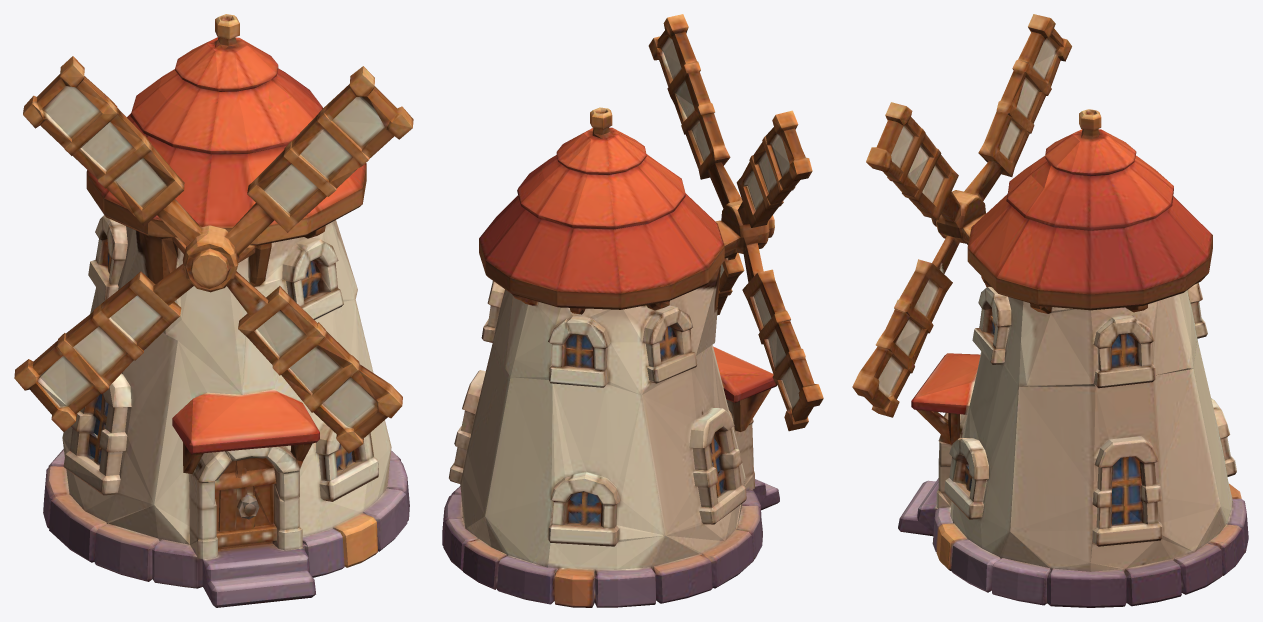
Rendered from windmill-cPRBwaim.glb.
3 views of the same model, side by side, from view 1: azimuth 30°, elevation 25°; view 2: azimuth 150°, elevation 25°; view 3: azimuth 270°, elevation 25° (orthographic). The views are drawn at different scales.
Visible parts, largest first — view 1: tripo_node_ea382cf0-94be-429a-9e7c-00bcf2830d0f; view 2: tripo_node_ea382cf0-94be-429a-9e7c-00bcf2830d0f; view 3: tripo_node_ea382cf0-94be-429a-9e7c-00bcf2830d0f.
Part boxes in pixels (x1=…): tripo_node_ea382cf0-94be-429a-9e7c-00bcf2830d0f: x1=14, y1=14, x2=413, y2=607; tripo_node_ea382cf0-94be-429a-9e7c-00bcf2830d0f: x1=442, y1=14, x2=823, y2=607; tripo_node_ea382cf0-94be-429a-9e7c-00bcf2830d0f: x1=852, y1=14, x2=1248, y2=607.
Size of the model in its own units: 0.774 by 0.9765 by 0.7816.
1 material, 1 textured.
